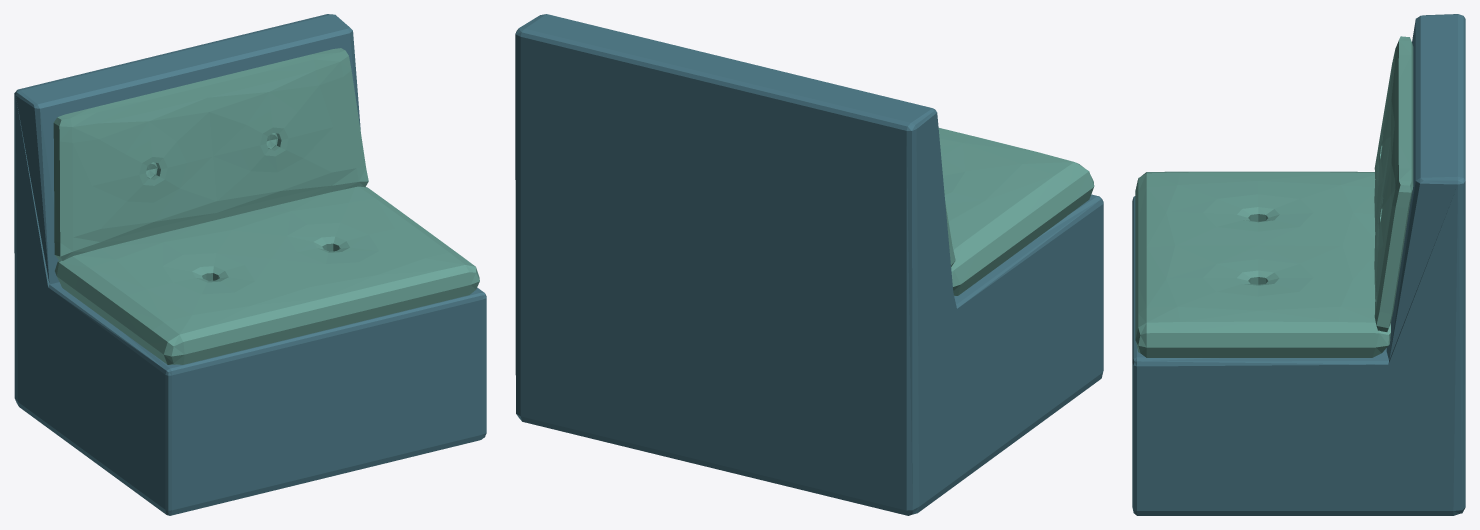
Rendered from Bench.fbx.
The picture shows the model from 3 angles, left to right: view 1: azimuth 30°, elevation 25°; view 2: azimuth 150°, elevation 25°; view 3: azimuth 270°, elevation 25°; orthographic projection. The views are drawn at different scales.
Parts seen in each view (by area): view 1: Sofa; view 2: Sofa; view 3: Sofa.
Part boxes in pixels (x1,y1,x2,y2): Sofa: (14,14,486,515); Sofa: (515,14,1103,515); Sofa: (1132,14,1465,515).
Size of the model in its own units: 2.76 by 2.59 by 2.31.
